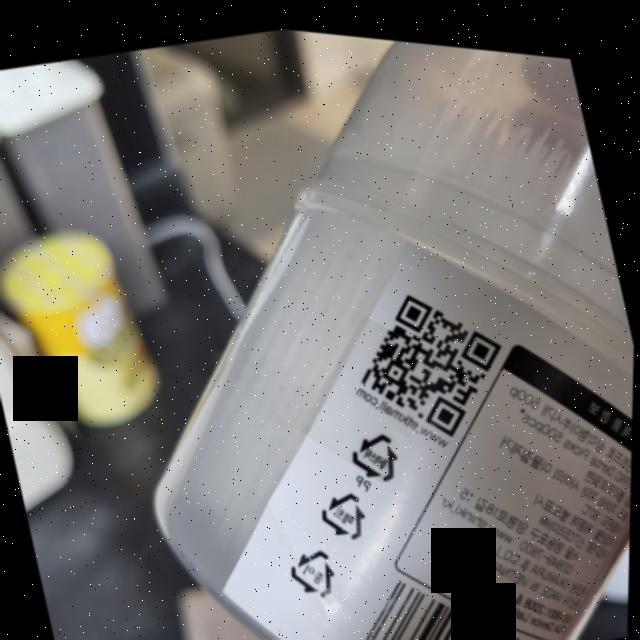PET: (316, 478, 374, 540)
Paper: (287, 533, 346, 599)
Plastic: (344, 418, 405, 478)
